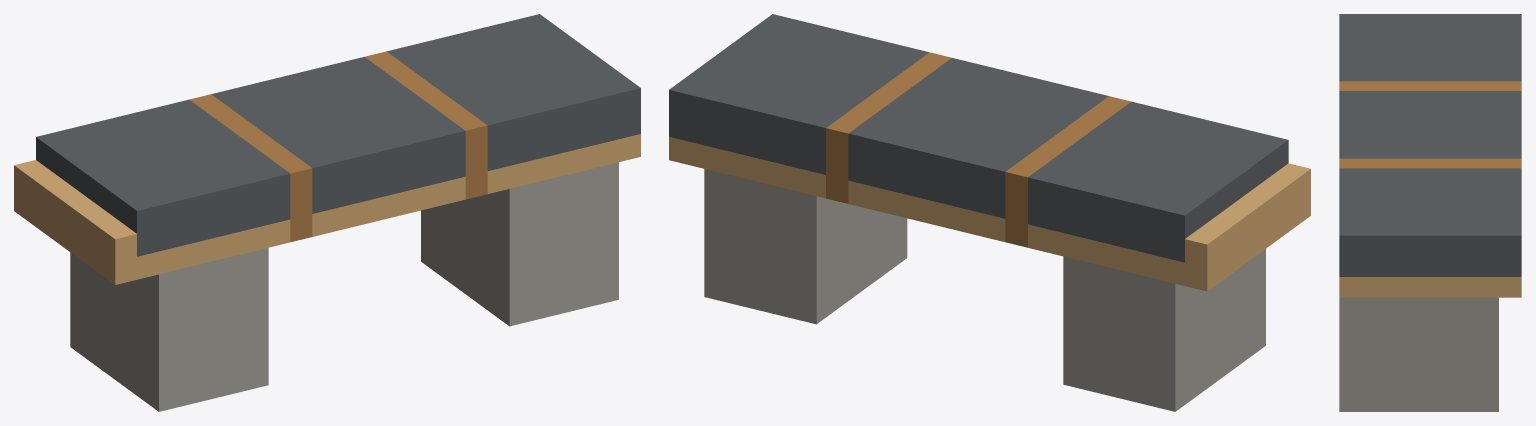
File: hearthvale_furniture_stone_bench.obj
The picture shows the model from 3 angles, left to right: view 1: azimuth 30°, elevation 25°; view 2: azimuth 150°, elevation 25°; view 3: azimuth 270°, elevation 25°; orthographic projection. The views are drawn at different scales.
Parts seen in each view (by area): view 1: palette_4, palette_7, palette_3, palette_2; view 2: palette_4, palette_7, palette_3, palette_2; view 3: palette_4, palette_7, palette_2, palette_3.
Part boxes in pixels (bbox=[...]): palette_4: bbox=[36, 14, 640, 256]; palette_7: bbox=[70, 162, 618, 411]; palette_3: bbox=[14, 134, 640, 284]; palette_2: bbox=[189, 51, 487, 242]; palette_4: bbox=[669, 14, 1288, 262]; palette_7: bbox=[704, 169, 1265, 411]; palette_3: bbox=[669, 137, 1310, 291]; palette_2: bbox=[826, 52, 1130, 247]; palette_4: bbox=[1339, 14, 1521, 276]; palette_7: bbox=[1339, 297, 1498, 411]; palette_2: bbox=[1339, 81, 1521, 168]; palette_3: bbox=[1339, 277, 1521, 297].
Size of the model in its own units: 1.5 by 0.5625 by 0.5.
